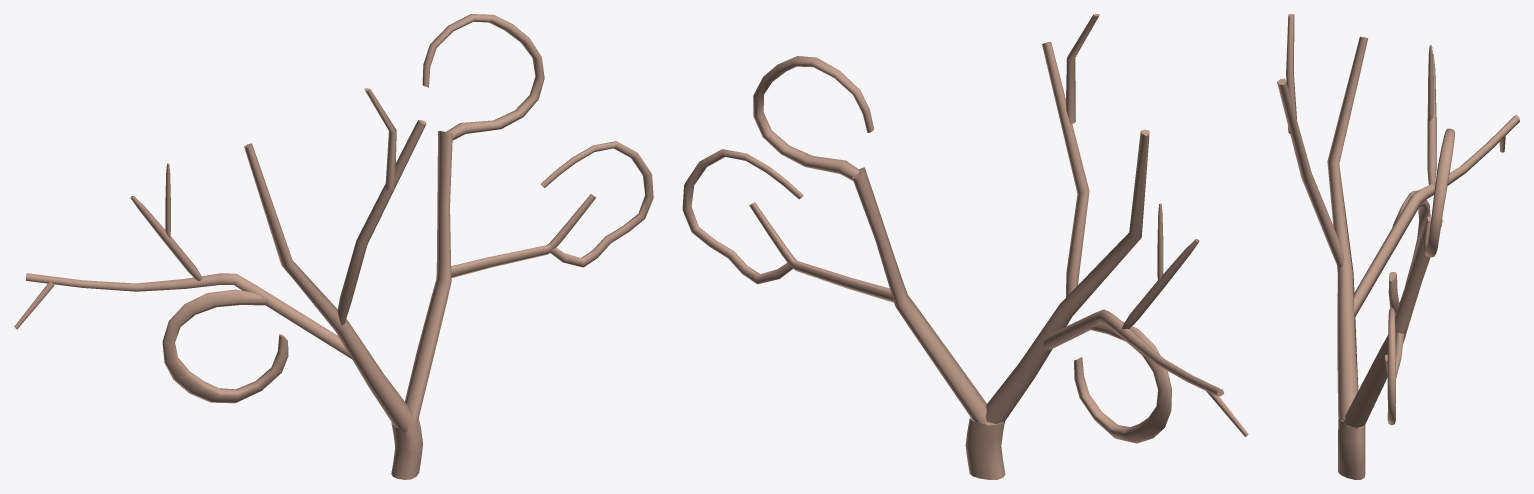
File: big_tree.fbx
3 views of the same model, side by side, from view 1: azimuth 30°, elevation 25°; view 2: azimuth 150°, elevation 25°; view 3: azimuth 270°, elevation 25° (orthographic). The views are drawn at different scales.
Parts seen in each view (by area): view 1: tree; view 2: tree; view 3: tree.
Boxes of the visible parts, box(x1,y1,x2,y2) form: tree: box(14, 14, 653, 479); tree: box(682, 14, 1248, 479); tree: box(1277, 14, 1519, 479).
Bounding box in the file's own units: 7.29 × 5.06 × 2.63.
